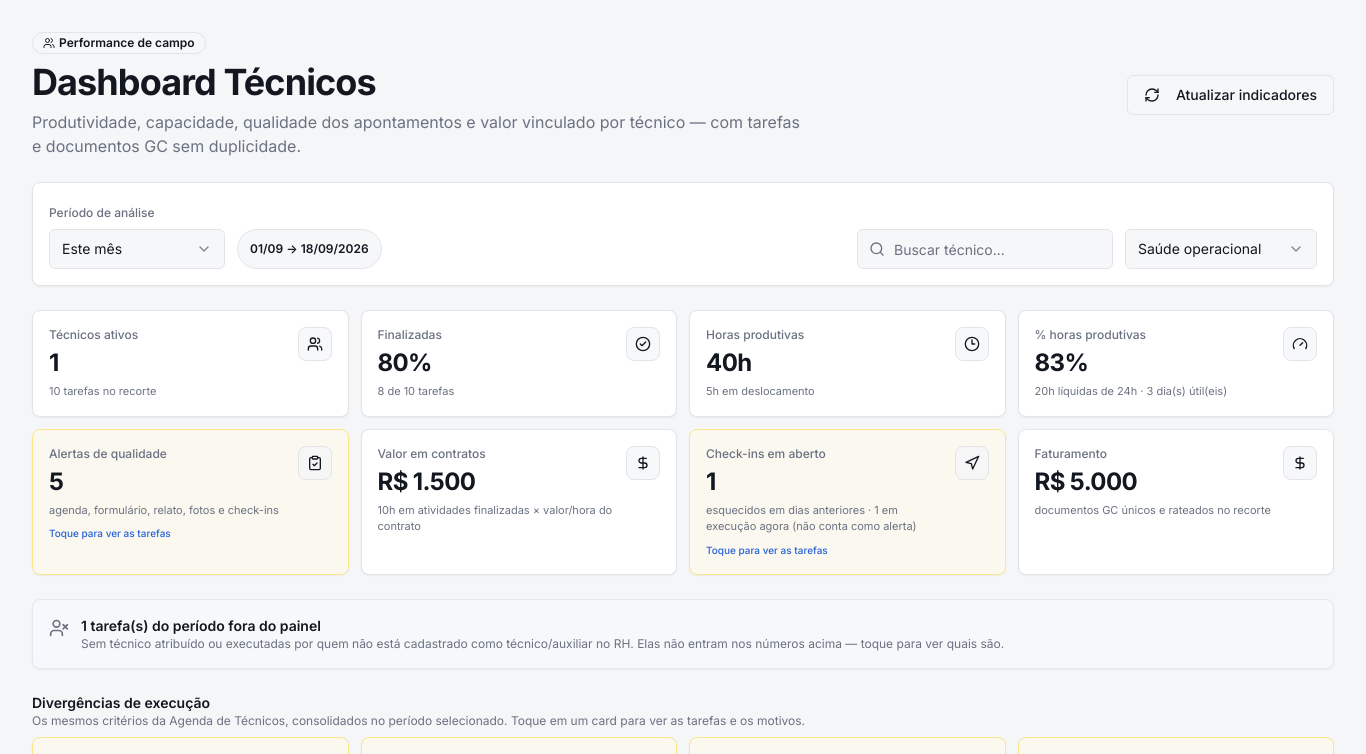
Test: TechDashboardPage › opens the alert details dialog with reasons and Auvo link when a card is clicked
This screenshot has width=1366, height=754.
Click the text "Alertas de qualidade": (108, 453) x1=49 y1=446 x2=167 y2=460
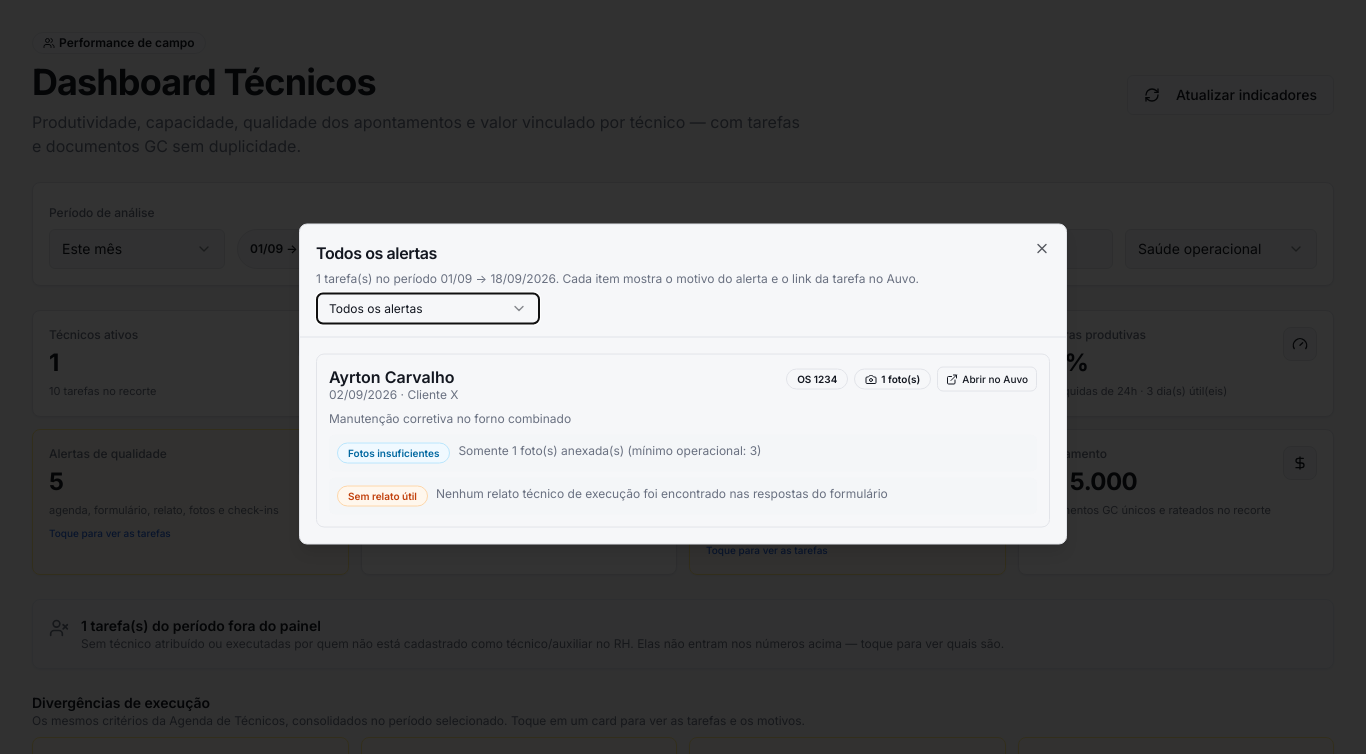
Expected: the heading "Todos os alertas" is shown, x1=316 y1=242 x2=437 y2=262
Expected: the text "Somente 1 foto(s) anexada(s) (mínimo operacional: 3)" is shown, x1=458 y1=442 x2=762 y2=459
Expected: the text "Nenhum relato técnico de execução" is shown, x1=436 y1=486 x2=888 y2=500
